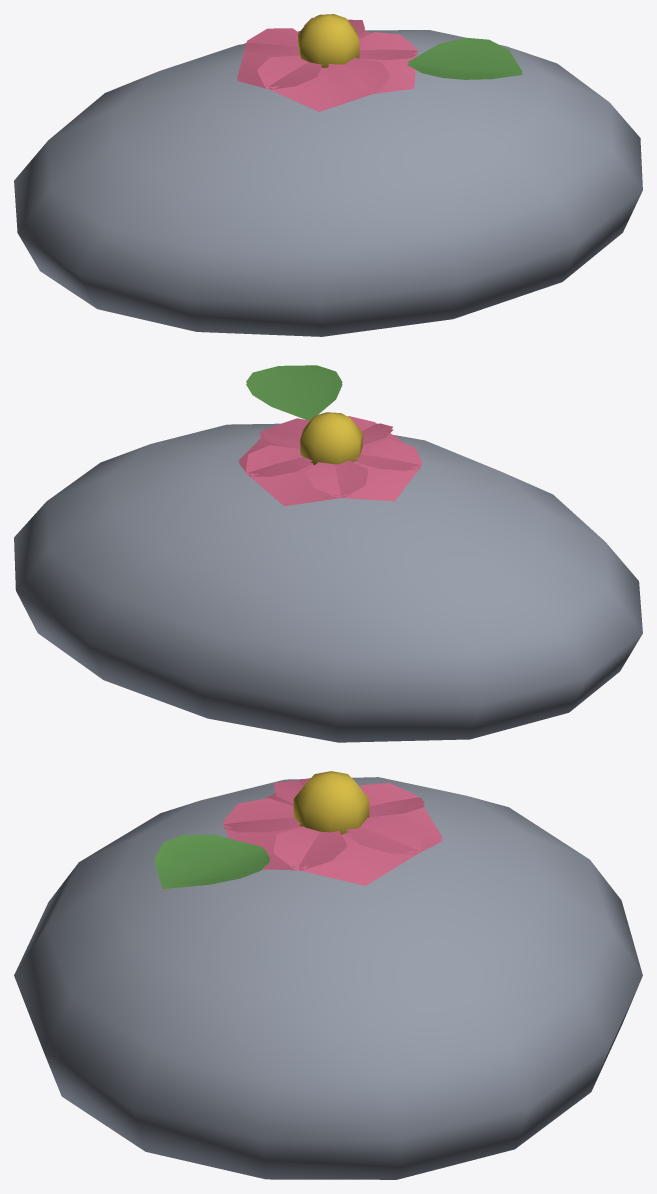
Rendered from col_painted_pebble.glb.
The picture shows the model from 3 angles, top to bottom: view 1: azimuth 30°, elevation 25°; view 2: azimuth 150°, elevation 25°; view 3: azimuth 270°, elevation 25°; orthographic projection. The views are drawn at different scales.
Visible parts, largest first — view 1: col_painted_pebble; view 2: col_painted_pebble; view 3: col_painted_pebble.
Part boxes in pixels (x1,y1,x2,y2): col_painted_pebble: [14, 14, 642, 336]; col_painted_pebble: [14, 365, 642, 742]; col_painted_pebble: [14, 771, 642, 1179].
Size of what is drawn, in the model's own units: 0.219 by 0.0826 by 0.1771.
